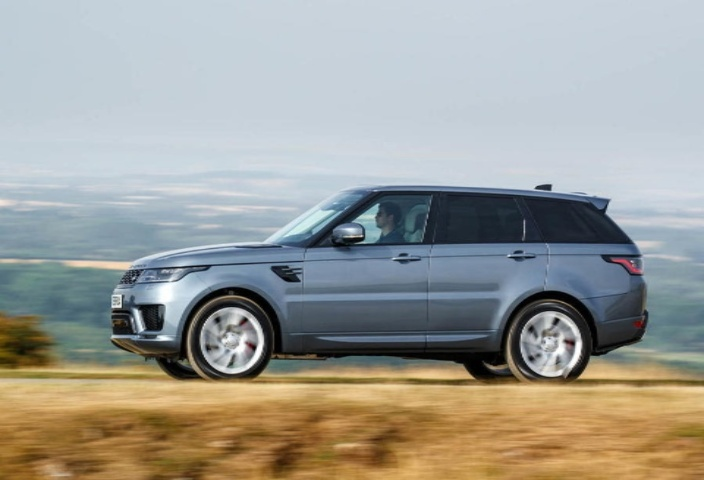camper: (103, 158, 671, 393)
